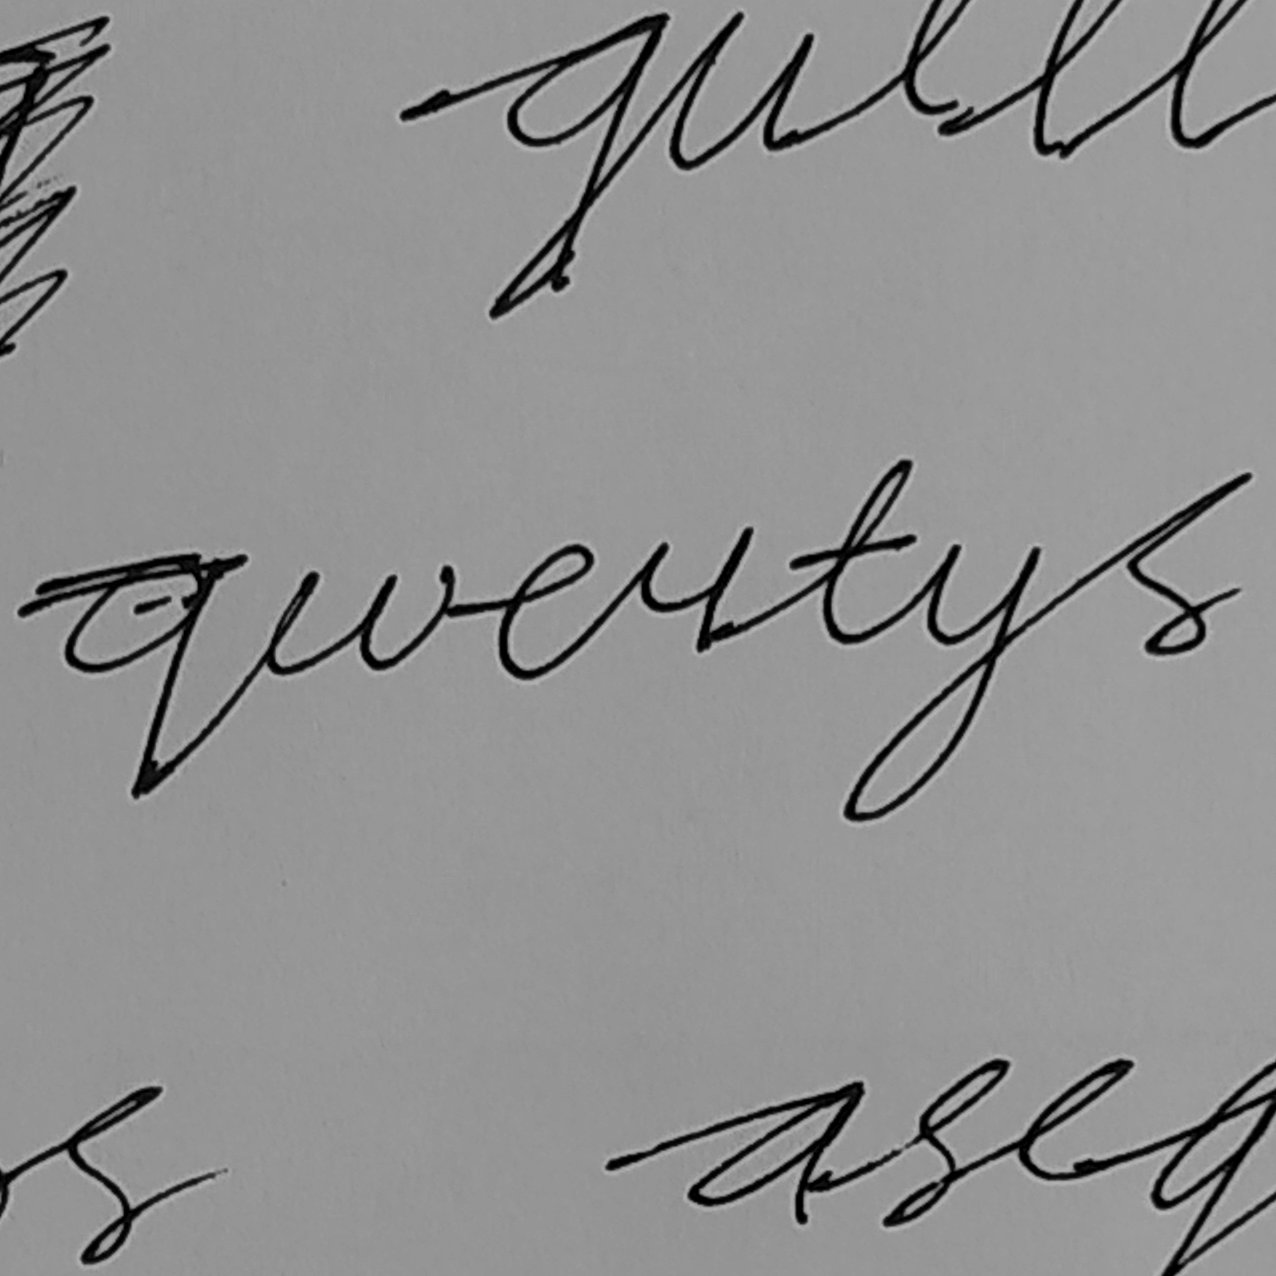e: (492, 538, 599, 684)
q: (58, 548, 224, 803)
r: (624, 522, 756, 656)
s: (1121, 467, 1258, 659)
t: (784, 455, 920, 649)
w: (257, 557, 459, 678)
y: (837, 538, 1043, 827)
